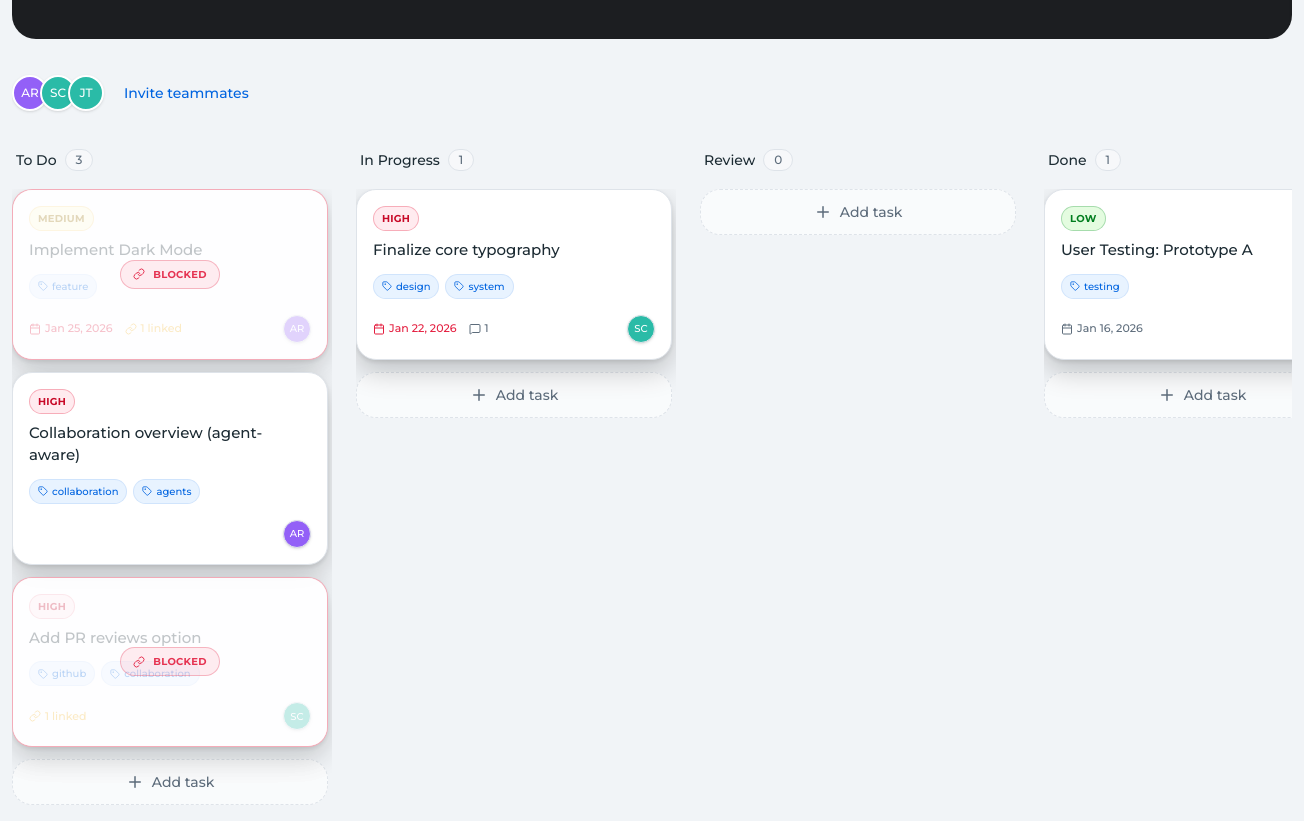
KanbanView buttons › pressing Enter in the task input submits the task
(page scrolled)
Click the button "Add task" below "github".
click(170, 782)  # box [12,759,328,805]
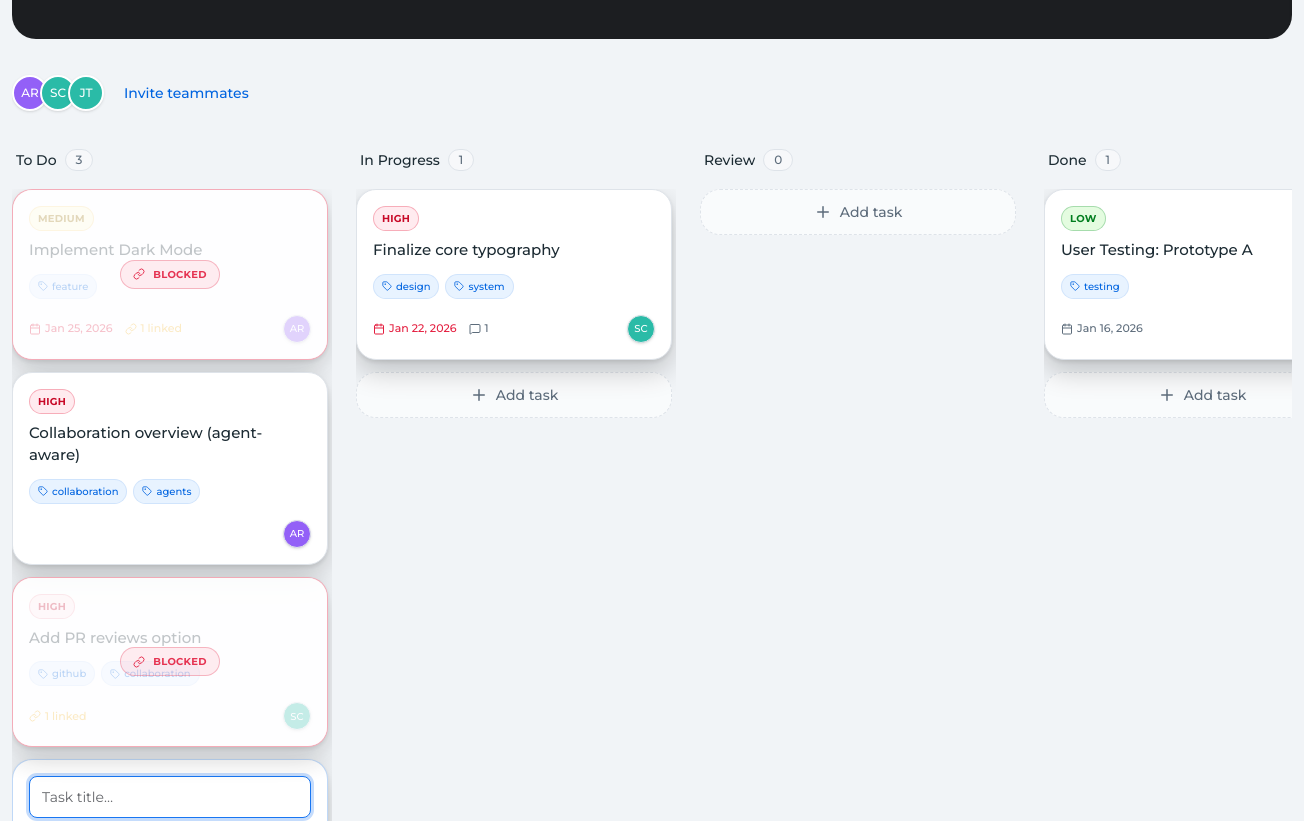
Type "Enter-submitted task" into the field with placeholder "Task title…".
click(170, 797); type("Enter-submitted task")  # box [29,776,311,818]
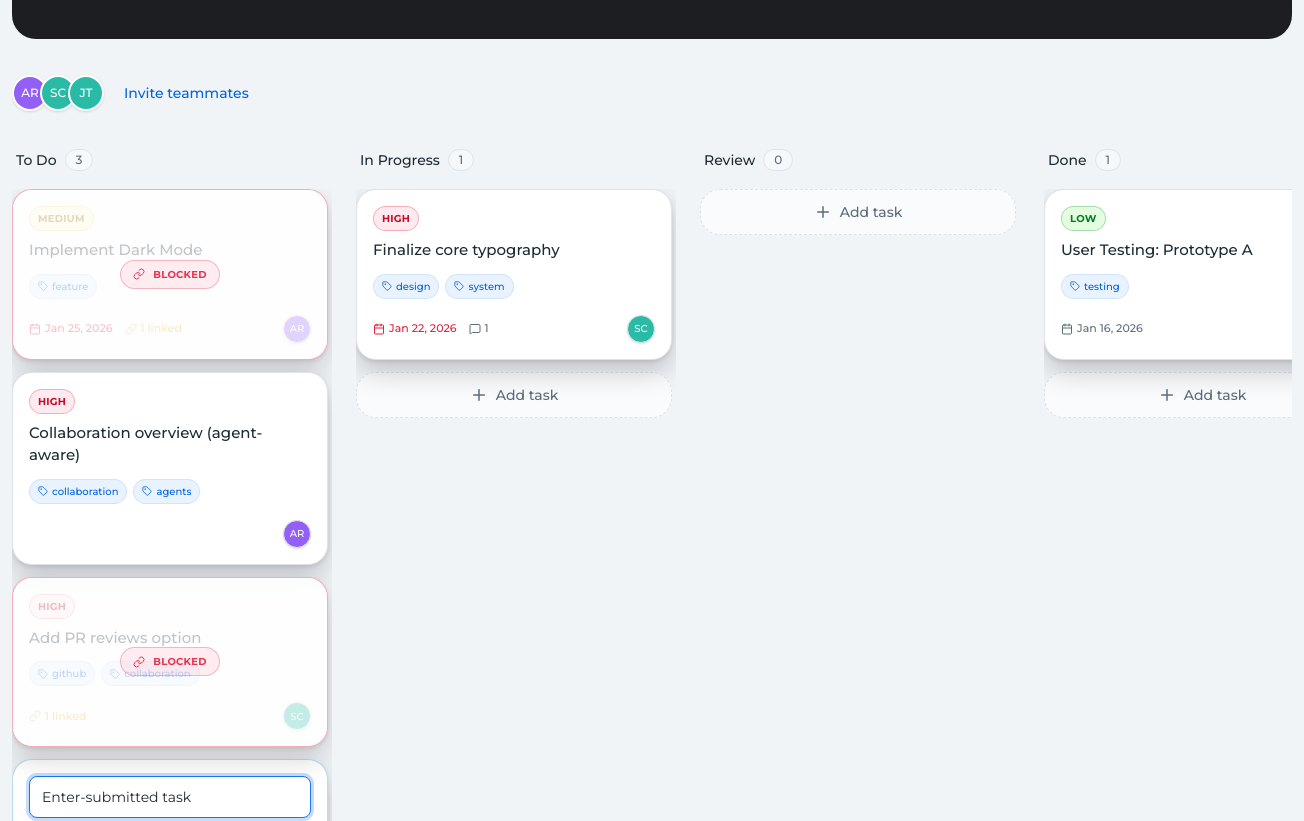
Press Enter in the field with placeholder "Task title…", box [29,776,311,818]
(page scrolled)
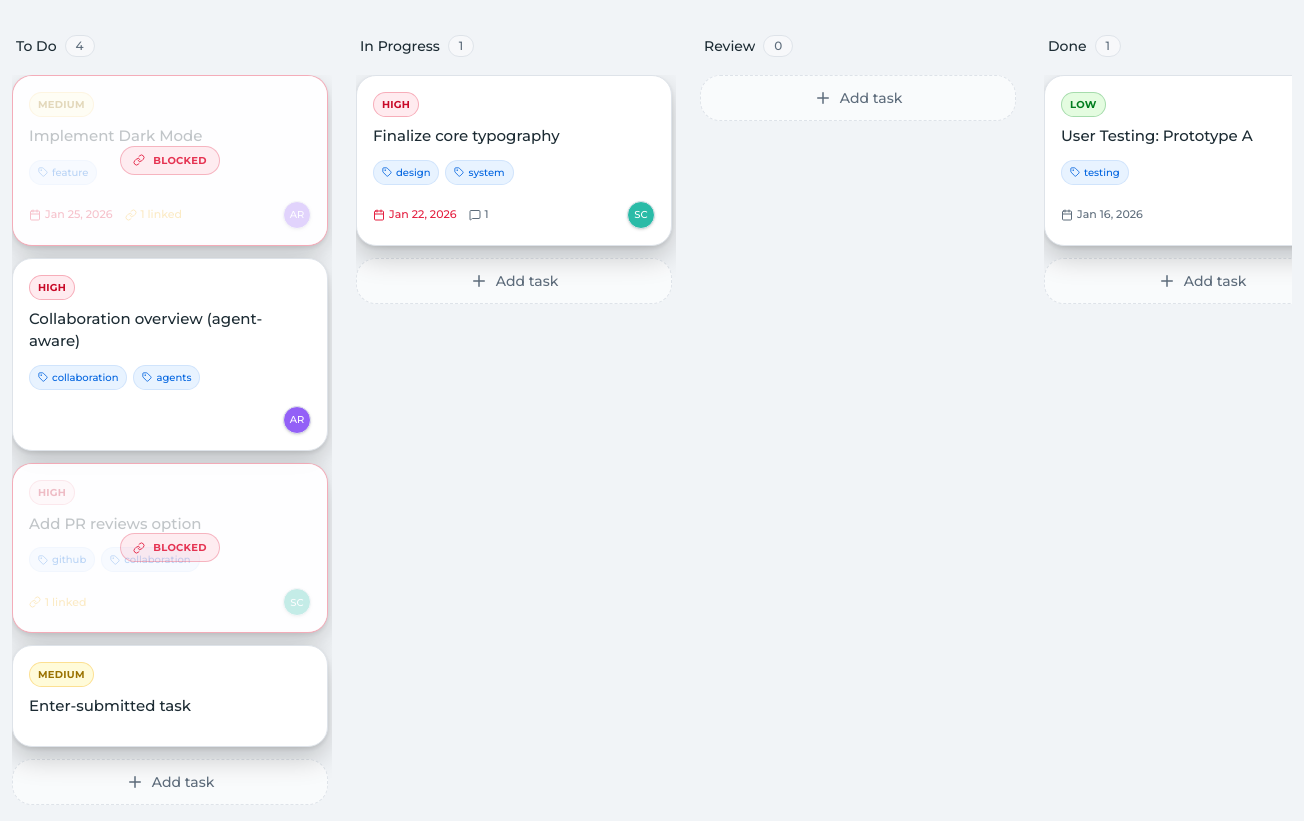
Expected: the field with placeholder "Task title…" is not shown
Now the heading "Enter-submitted task" is shown, box [29,696,191,715]
